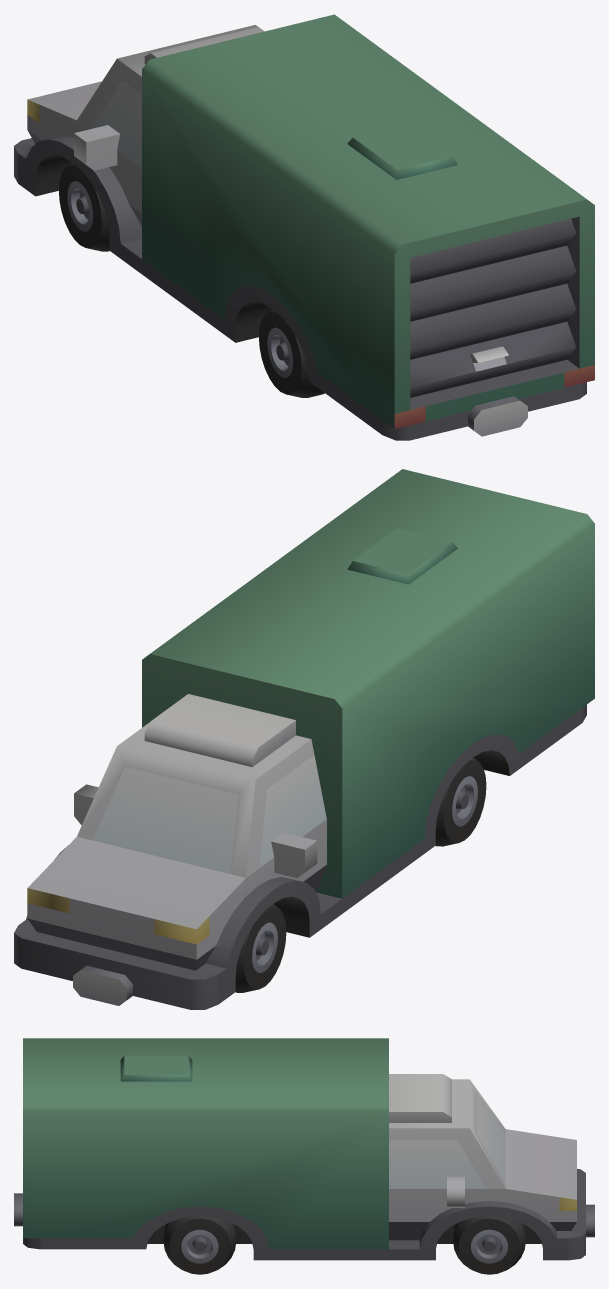
Rendered from delivery.glb.
3 renders of one model, top to bottom at view 1: azimuth 30°, elevation 25°; view 2: azimuth 150°, elevation 25°; view 3: azimuth 270°, elevation 25°, orthographic. The views are drawn at different scales.
Parts seen in each view (by area): view 1: body, door, wheel-back-left, wheel-front-left; view 2: body, wheel-front-left, wheel-back-left; view 3: body, wheel-back-right, wheel-front-right.
Boxes of the visible parts, bbox=[...] form: body: bbox=[14, 14, 594, 440]; door: bbox=[410, 218, 576, 397]; wheel-back-left: bbox=[259, 309, 324, 397]; wheel-front-left: bbox=[59, 162, 109, 251]; body: bbox=[14, 469, 594, 1009]; wheel-front-left: bbox=[235, 903, 286, 992]; wheel-back-left: bbox=[435, 757, 486, 846]; body: bbox=[14, 1038, 594, 1260]; wheel-back-right: bbox=[163, 1216, 236, 1274]; wheel-front-right: bbox=[453, 1216, 525, 1274].
Bounding box in the file's own units: 1.9 × 1.97 × 5.72.
Materials: 1 (1 with a texture image).
